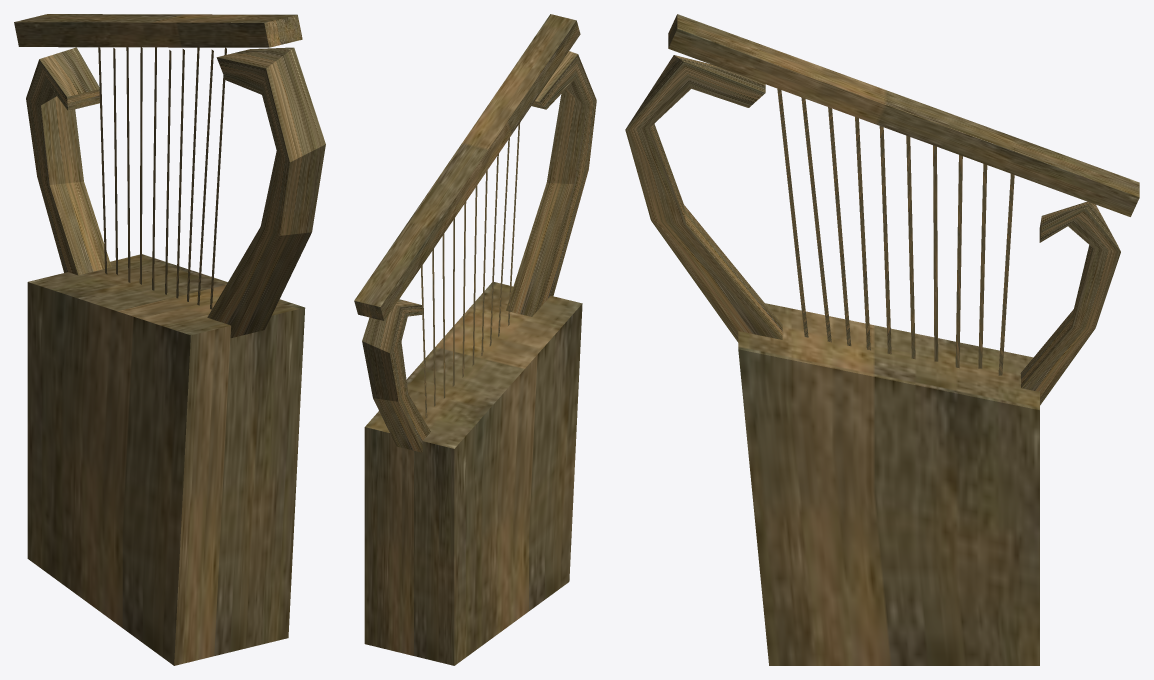
The model's file is lyre.glb.
3 renders of one model, left to right at view 1: azimuth 30°, elevation 25°; view 2: azimuth 150°, elevation 25°; view 3: azimuth 270°, elevation 25°, orthographic. The views are drawn at different scales.
Parts seen in each view (by area): view 1: Cube; view 2: Cube; view 3: Cube.
Part boxes in pixels (left/top/right/bottom): Cube: left=14, top=14, right=325, bottom=665; Cube: left=354, top=14, right=596, bottom=665; Cube: left=625, top=14, right=1139, bottom=665.
Size of the model in its own units: 0.6983 by 3.91 by 2.94.
1 material, 1 textured.
